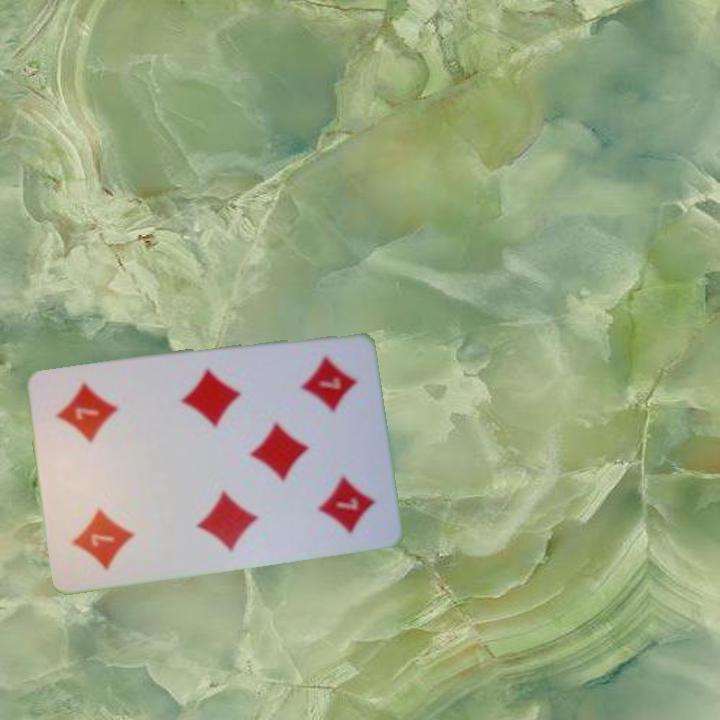d_7.png: (53, 467, 152, 578), (273, 340, 372, 450)
